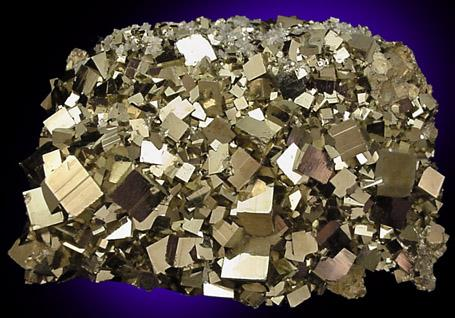pyrite: (11, 39, 446, 308)
